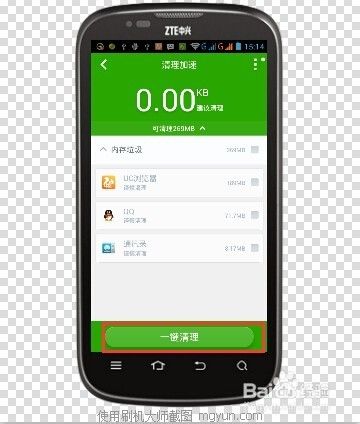phone: (75, 4, 286, 406)
